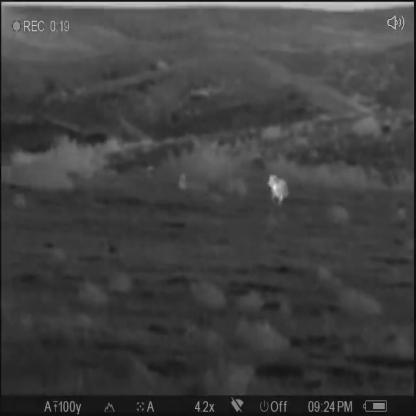rehkitze: (267, 173, 291, 205)
